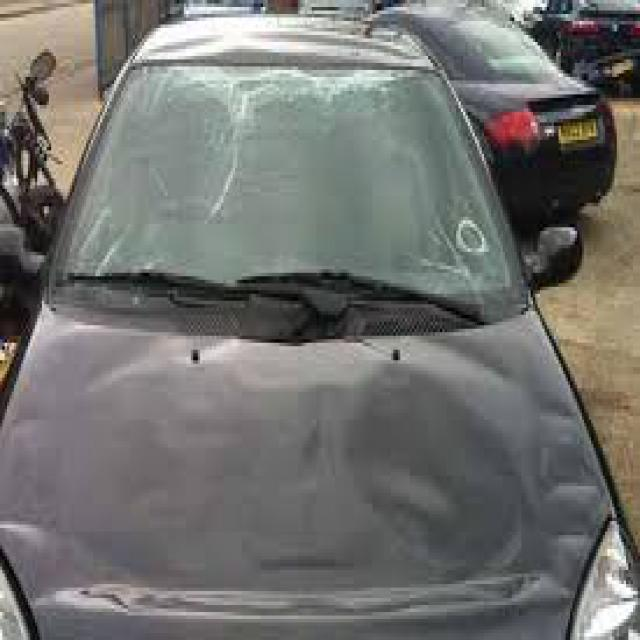Front-Windscreen-Damage: (42, 42, 568, 318)
bonnet-dent: (11, 304, 598, 636)
